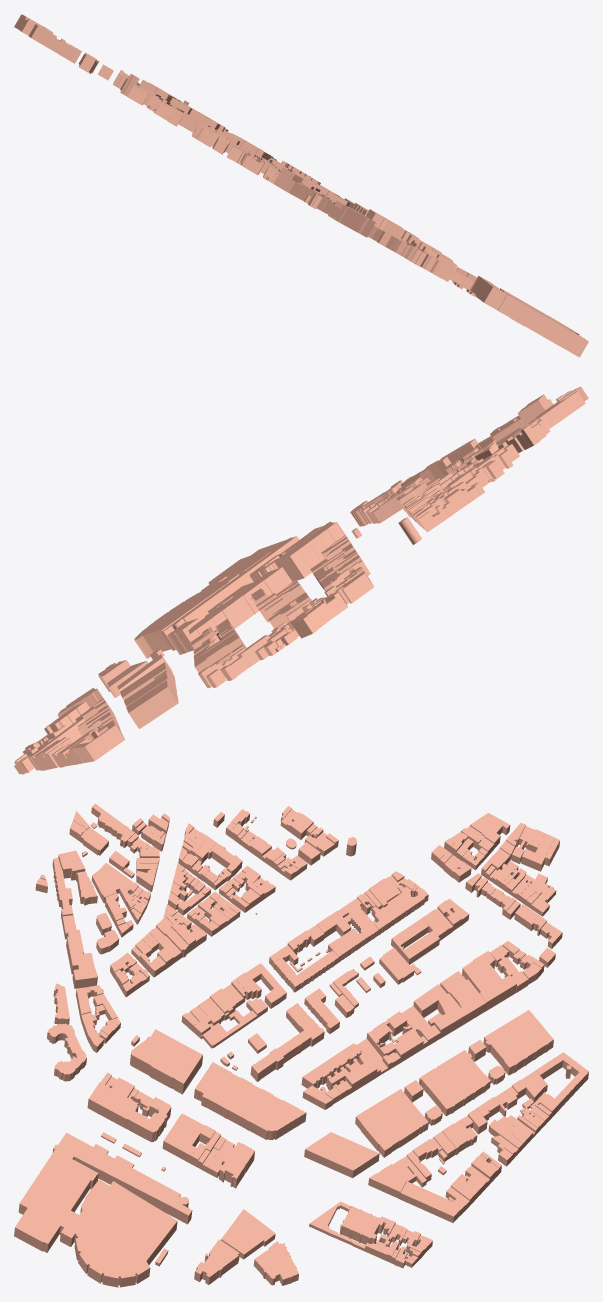
3 views of the same model, one above another, from view 1: azimuth 30°, elevation 25°; view 2: azimuth 150°, elevation 25°; view 3: azimuth 270°, elevation 25° (orthographic). The views are drawn at different scales.
Bounding box in the file's own units: 527 × 401 × 674.
